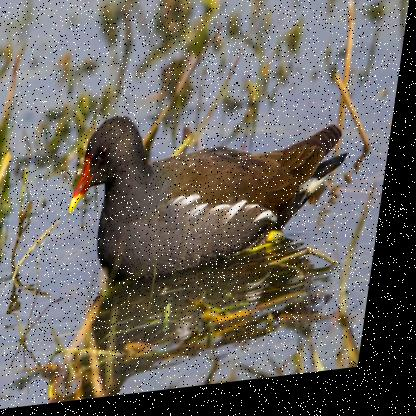Burung: (66, 97, 360, 291)
